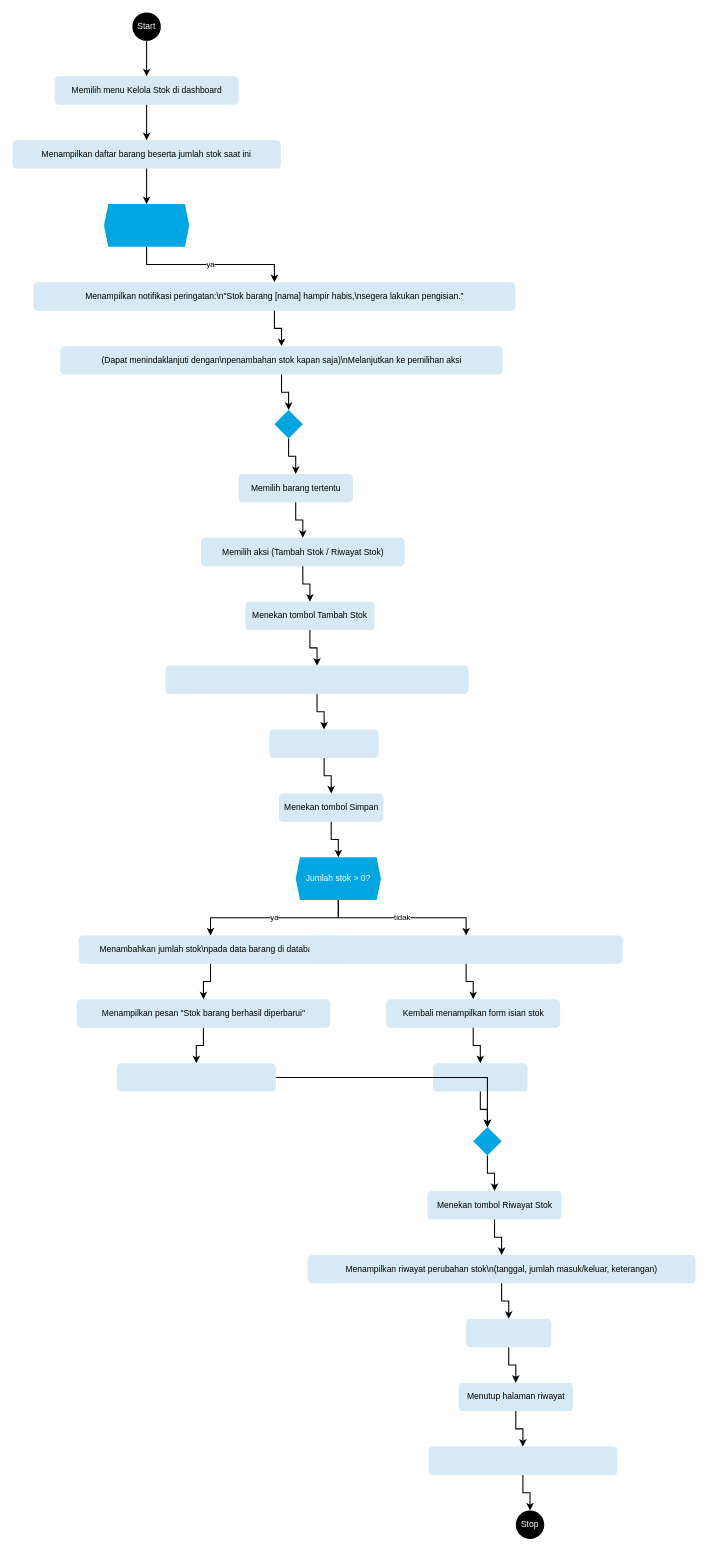
This 707x1551 diagram has some shape labels left out. Here are the shapes that lost their labels. From the top down, the centre of each, then its label:
[146,225]: Ada barang di bawah batas minimum?
[316,679]: Menampilkan form isian jumlah\npenambahan stok dan keterangan
[323,743]: Memasukkan jumlah stok
[465,949]: Menampilkan pesan peringatan\n"Jumlah stok harus lebih dari 0."
[195,1077]: Memperbarui tampilan daftar stok
[480,1077]: (Memperbaiki isian)
[508,1332]: Melihat riwayat
[522,1460]: Kembali menampilkan daftar stok barang
